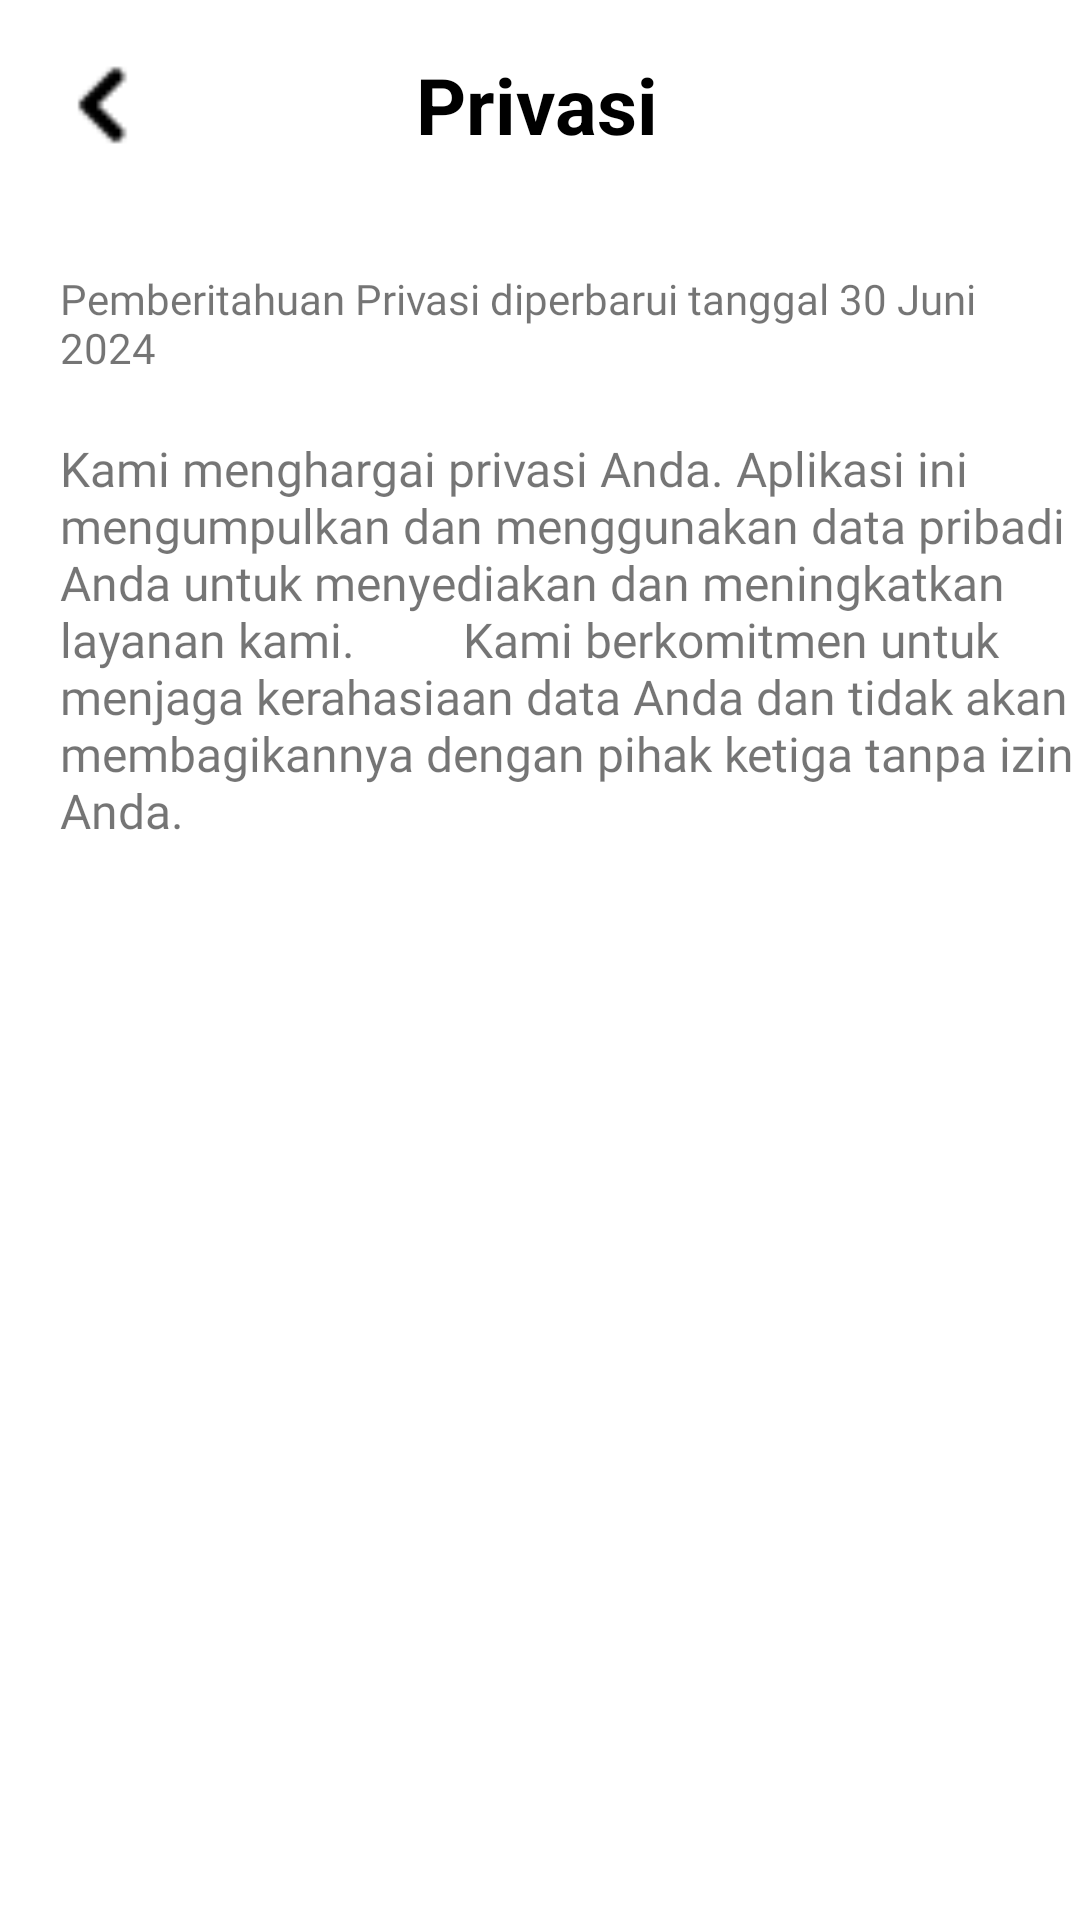

Icon click points for this 1080*1920 phone screenshot, format (x=x, y=y):
panah kiri: (x=102, y=105)
